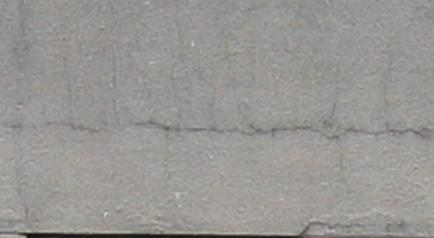termicas: (48, 61, 434, 188)
